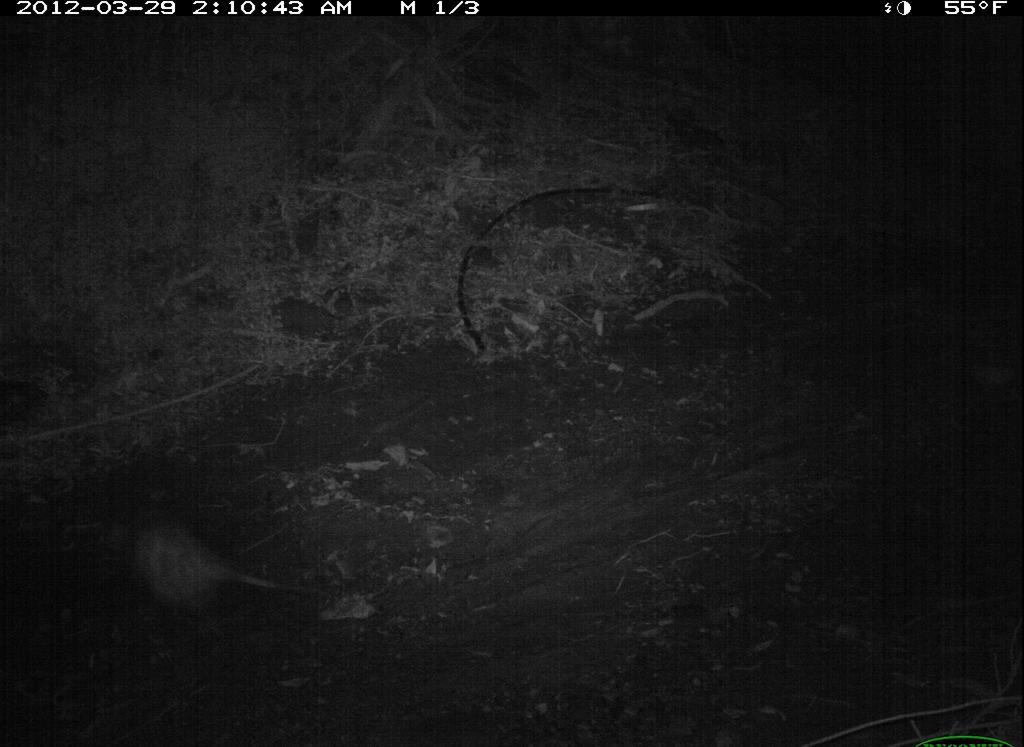opossum: (99, 501, 356, 628)
